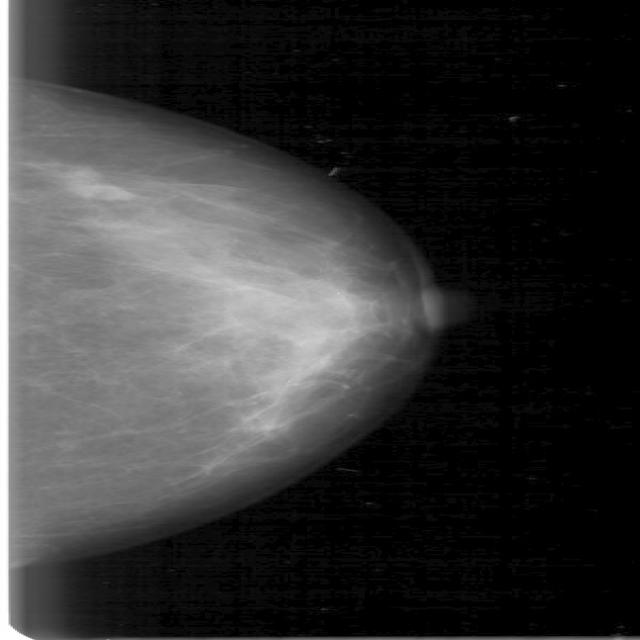tumour: (41, 161, 128, 199)
